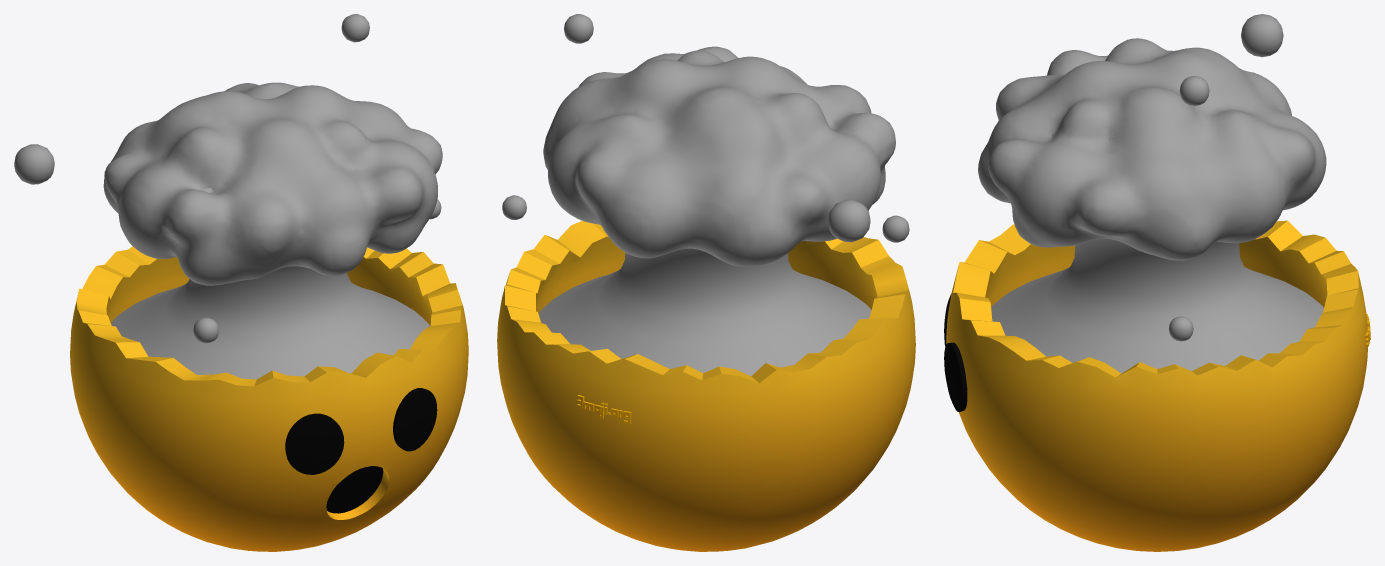
File: exploding_head.fbx
3 renders of one model, left to right at view 1: azimuth 30°, elevation 25°; view 2: azimuth 150°, elevation 25°; view 3: azimuth 270°, elevation 25°, orthographic. The views are drawn at different scales.
Visible parts, largest first — view 1: Exploding Head; view 2: Exploding Head; view 3: Exploding Head.
Part boxes in pixels (bbox=[...]): Exploding Head: bbox=[14, 14, 468, 551]; Exploding Head: bbox=[497, 14, 915, 551]; Exploding Head: bbox=[944, 14, 1370, 551].
Size of the model in its own units: 188 by 224 by 171.
Materials: 1 (1 with a texture image).
